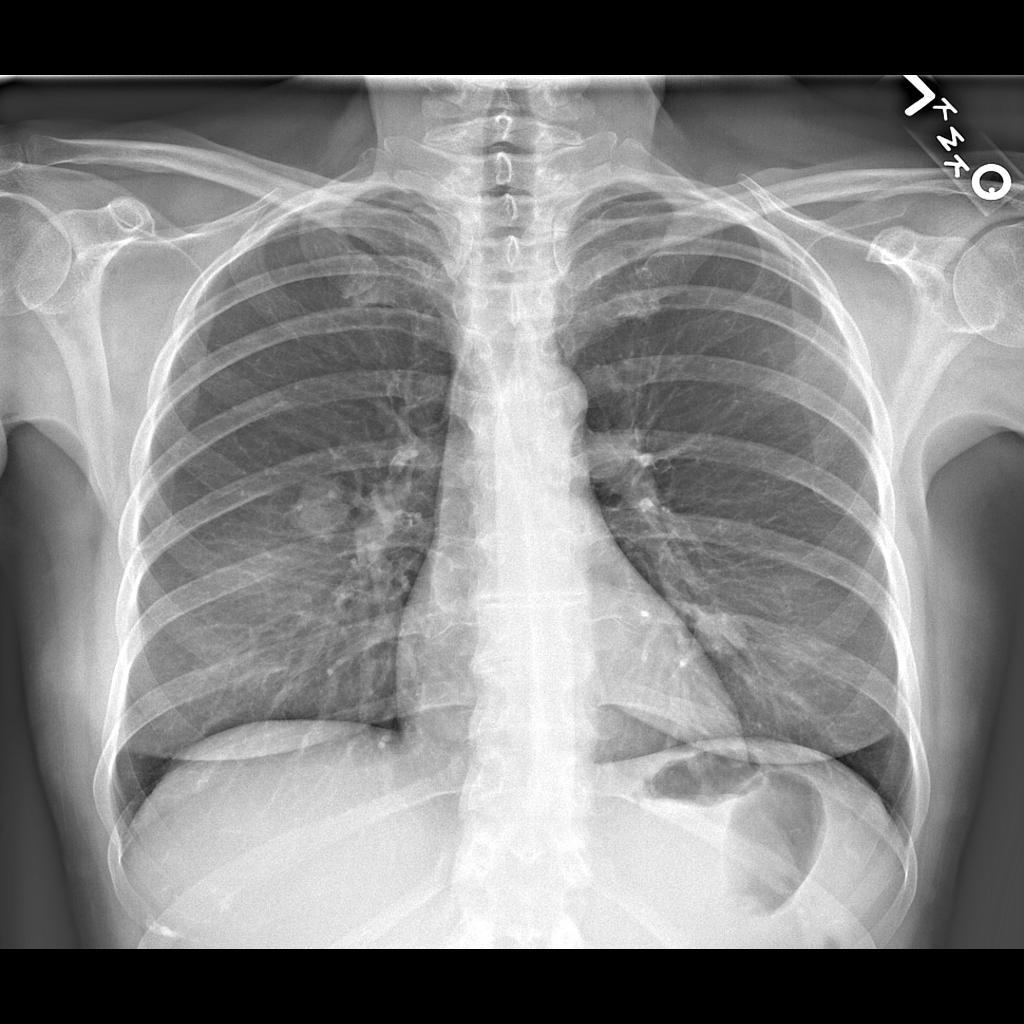Nodule: (289, 472, 353, 548), (694, 603, 759, 664)
